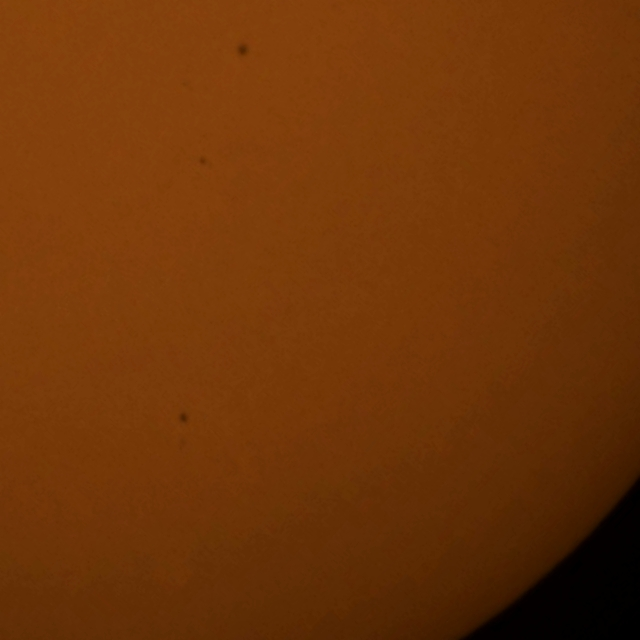sunspot: (234, 41, 251, 60), (177, 410, 190, 426), (197, 155, 208, 168)
